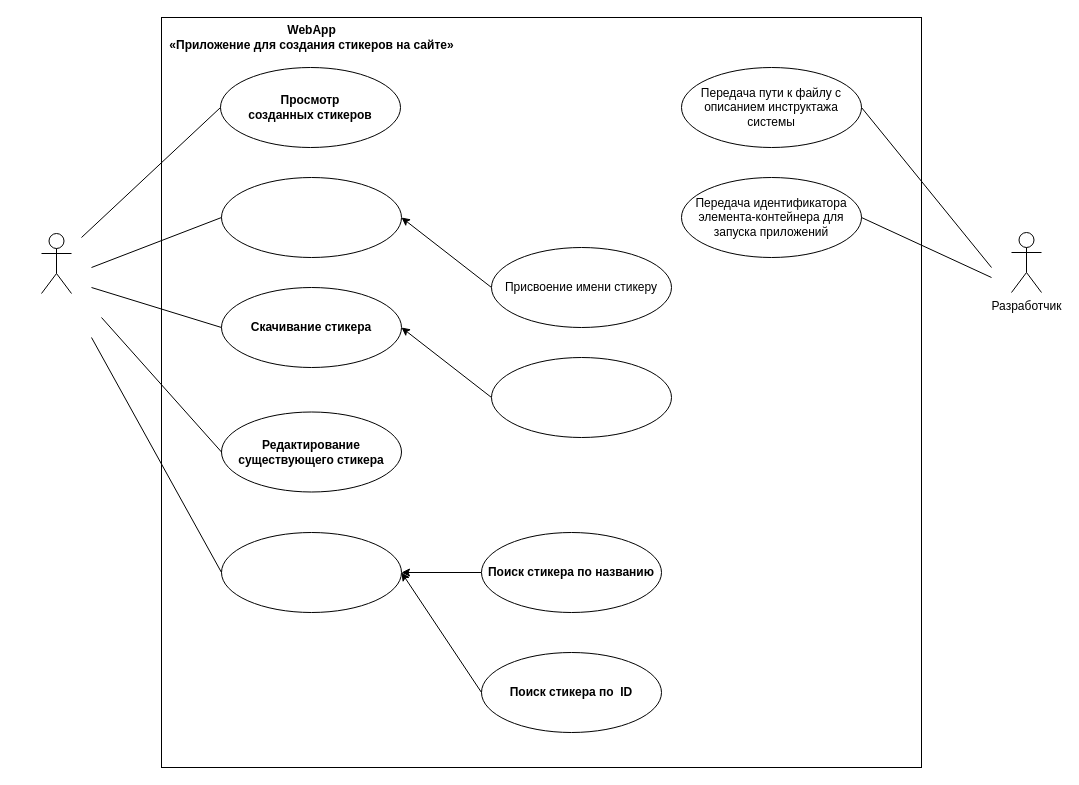
Image size: 1079x785. Some labels were removed from this diagram. The box of each missing label's shape, as (x1, y1, x2, y2) in pixels:
Выбор формата скачивания: (490, 356, 672, 438)
Поиск стикера: (220, 532, 402, 612)
Пользователь: (40, 232, 72, 294)
Создание нового стикера: (220, 176, 402, 258)
